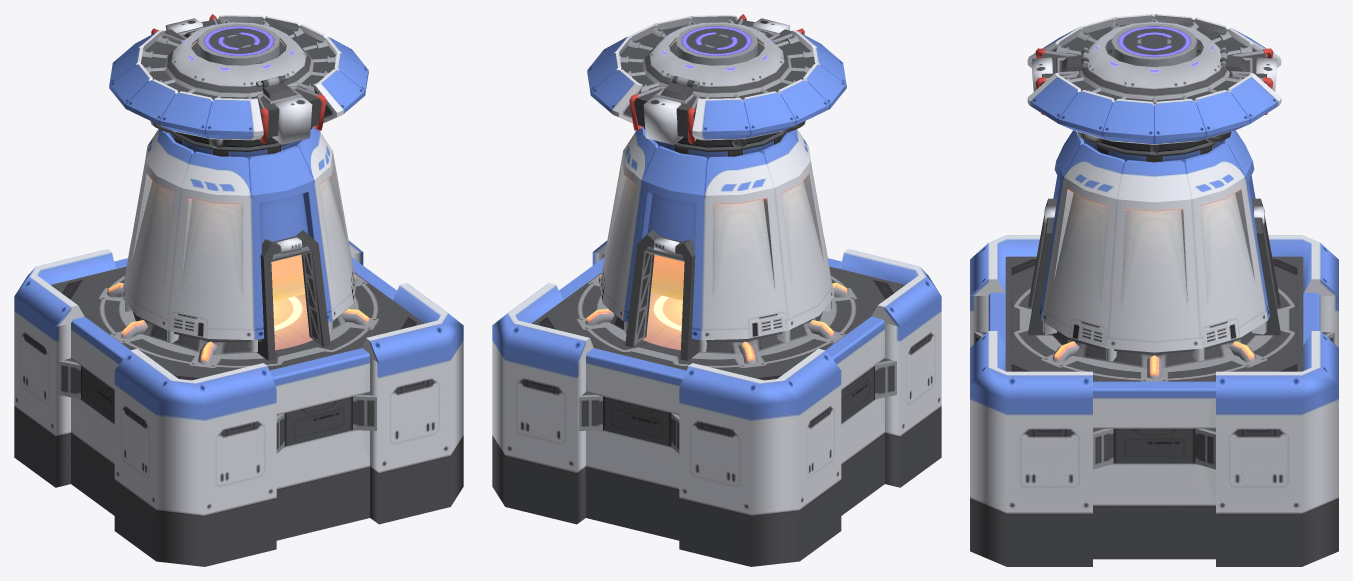
The picture shows the model from 3 angles, left to right: view 1: azimuth 30°, elevation 25°; view 2: azimuth 150°, elevation 25°; view 3: azimuth 270°, elevation 25°; orthographic projection. The views are drawn at different scales.
Visible parts, largest first — view 1: smelter; view 2: smelter; view 3: smelter.
Boxes of the visible parts, left/top/right/bottom form: smelter: left=14, top=14, right=463, bottom=566; smelter: left=492, top=14, right=941, bottom=566; smelter: left=970, top=14, right=1338, bottom=566.
Bounding box in the file's own units: 3 × 4.02 × 3.
1 material, 1 textured.
